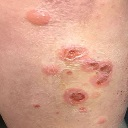Impetigo: (86, 61, 113, 87), (61, 44, 84, 63), (65, 89, 88, 104)
